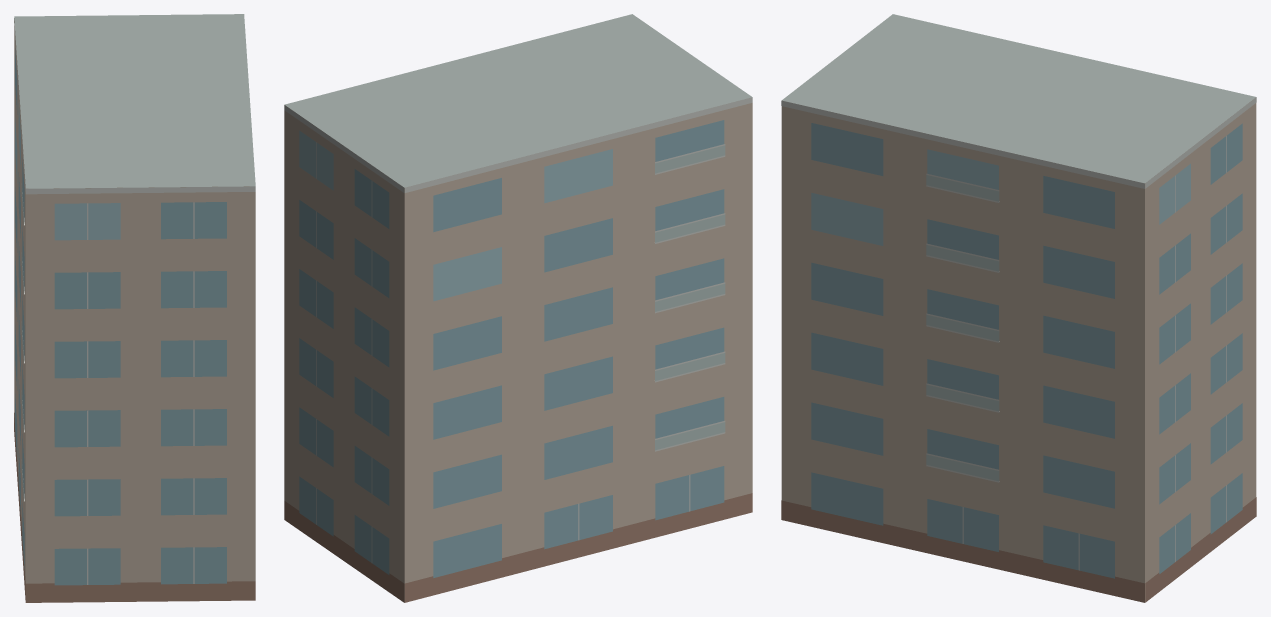
File: survey-upis-32877631.glb
The picture shows the model from 3 angles, left to right: view 1: azimuth 30°, elevation 25°; view 2: azimuth 150°, elevation 25°; view 3: azimuth 270°, elevation 25°; orthographic projection.
Parts seen in each view (by area): view 1: survey-upis-32877631.tmp; view 2: survey-upis-32877631.tmp; view 3: survey-upis-32877631.tmp.
Boxes of the visible parts, x1=… form: survey-upis-32877631.tmp: x1=14, y1=14, x2=255, y2=602; survey-upis-32877631.tmp: x1=284, y1=14, x2=752, y2=602; survey-upis-32877631.tmp: x1=781, y1=14, x2=1256, y2=602.
Size of the model in its own units: 15.86 by 18.3 by 18.79.
